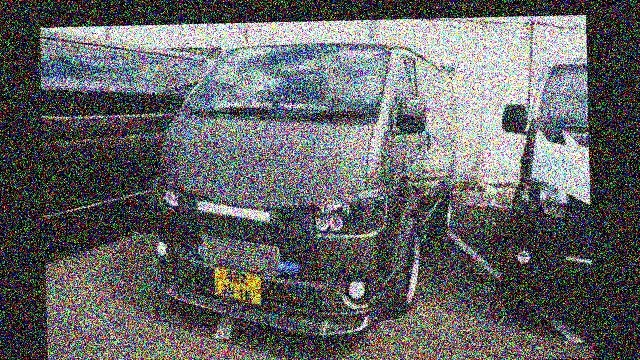van: (151, 37, 466, 340)
